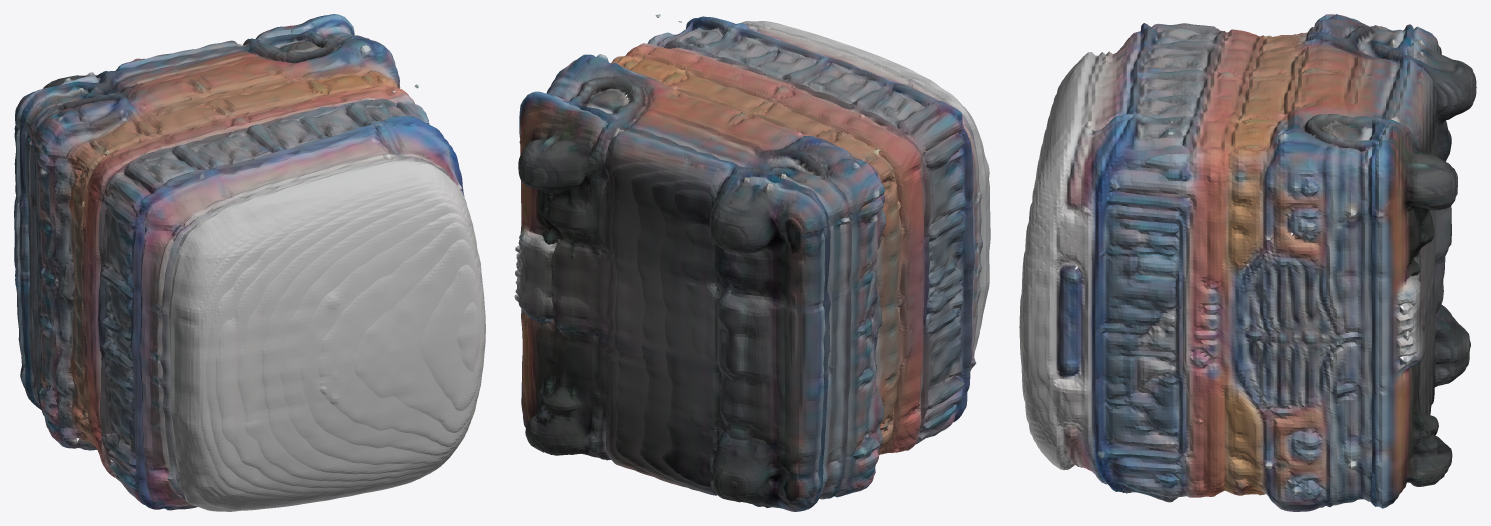
File: 000006_bedford_omnibus_isolated.glb
3 views of the same model, side by side, from view 1: azimuth 30°, elevation 25°; view 2: azimuth 150°, elevation 25°; view 3: azimuth 270°, elevation 25° (orthographic). The views are drawn at different scales.
Visible parts, largest first — view 1: world; view 2: world; view 3: world.
Part boxes in pixels (x1=…): world: x1=14, y1=14, x2=485, y2=511; world: x1=514, y1=14, x2=990, y2=511; world: x1=1019, y1=14, x2=1476, y2=511.
Bounding box in the file's own units: 0.8044 × 0.82 × 0.8906.
